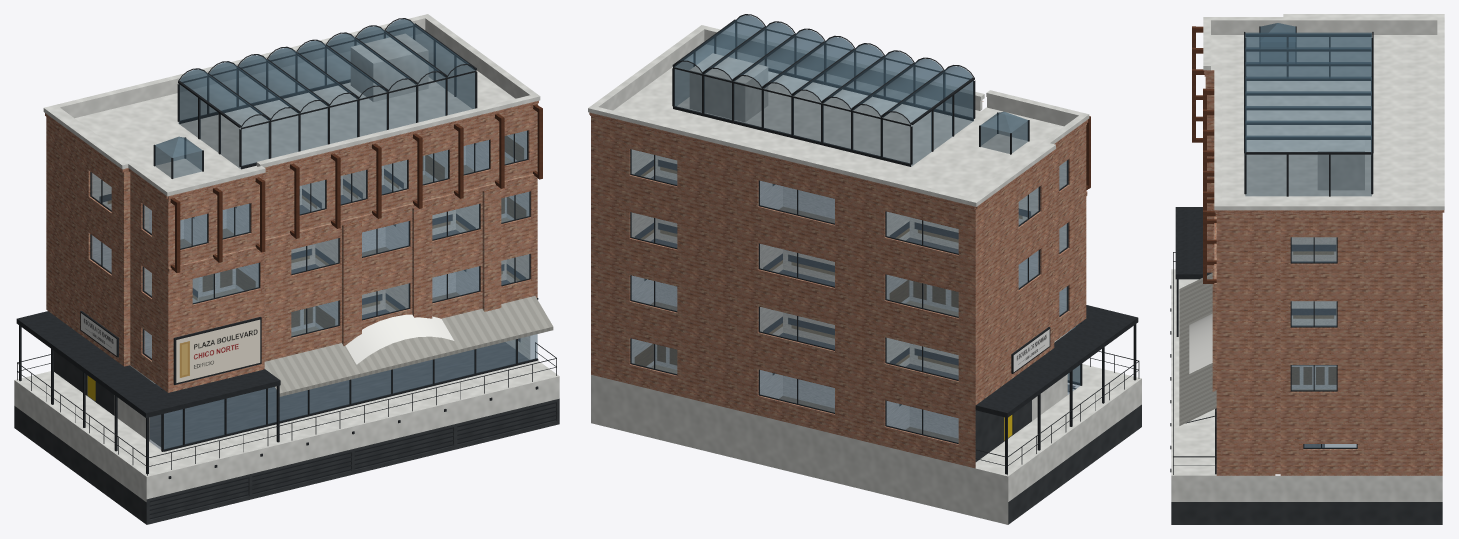
Rendered from plaza_boulevard_lod1.glb.
The picture shows the model from 3 angles, left to right: view 1: azimuth 30°, elevation 25°; view 2: azimuth 150°, elevation 25°; view 3: azimuth 270°, elevation 25°; orthographic projection. The views are drawn at different scales.
Parts seen in each view (by area): view 1: MAT_Brick_Terracotta, MAT_Concrete_White, MAT_Glass_BlueGrey (×5), MAT_Interior_Office, MAT_Metal_Graphite, MAT_Concrete_Dark, MAT_Awning_Fabric, MAT_Canopy, MAT_Frame_Corten, MAT_Sign_Front, MAT_Arc_White, MAT_Sign_Side; view 2: MAT_Brick_Terracotta, MAT_Concrete_White, MAT_Glass_BlueGrey (×4), MAT_Interior_Office, MAT_Metal_Graphite, MAT_Canopy, MAT_Concrete_Dark, MAT_Sign_Side; view 3: MAT_Brick_Terracotta, MAT_Concrete_White, MAT_Glass_BlueGrey (×3), MAT_Metal_Graphite, MAT_Concrete_Dark, MAT_Interior_Office, MAT_Awning_Fabric, MAT_Frame_Corten, MAT_Canopy, MAT_Arc_White.
Part boxes in pixels (x1,y1,x2,y2): MAT_Brick_Terracotta: (45,100,538,392); MAT_Concrete_White: (14,14,559,501); MAT_Glass_BlueGrey (×5): (91,19,537,449); MAT_Interior_Office: (92,131,530,448); MAT_Metal_Graphite: (17,18,556,519); MAT_Concrete_Dark: (14,351,559,524); MAT_Awning_Fabric: (264,296,553,396); MAT_Canopy: (16,311,280,417); MAT_Frame_Corten: (170,104,542,272); MAT_Sign_Front: (176,319,260,382); MAT_Arc_White: (345,314,454,364); MAT_Sign_Side: (81,313,116,355); MAT_Brick_Terracotta: (589,101,1087,468); MAT_Concrete_White: (588,25,1141,524); MAT_Glass_BlueGrey (×4): (631,15,1067,442); MAT_Interior_Office: (631,149,1075,442); MAT_Metal_Graphite: (630,14,1139,475); MAT_Canopy: (975,305,1138,417); MAT_Concrete_Dark: (975,400,1141,524); MAT_Sign_Side: (1013,329,1049,371); MAT_Brick_Terracotta: (1204,70,1444,475); MAT_Concrete_White: (1171,14,1444,501); MAT_Glass_BlueGrey (×3): (1245,23,1371,447); MAT_Metal_Graphite: (1170,26,1373,474); MAT_Concrete_Dark: (1171,502,1442,524); MAT_Interior_Office: (1291,237,1336,447); MAT_Awning_Fabric: (1179,273,1216,425); MAT_Frame_Corten: (1192,26,1216,283); MAT_Canopy: (1175,207,1212,279); MAT_Arc_White: (1189,313,1212,373).
Size of the model in its own units: 27.12 by 21.81 by 15.18.
14 materials, 10 textured.
